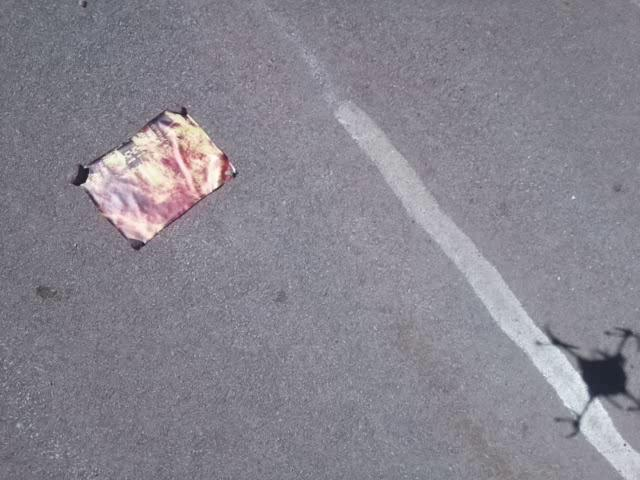fire-poster: (70, 104, 238, 251)
